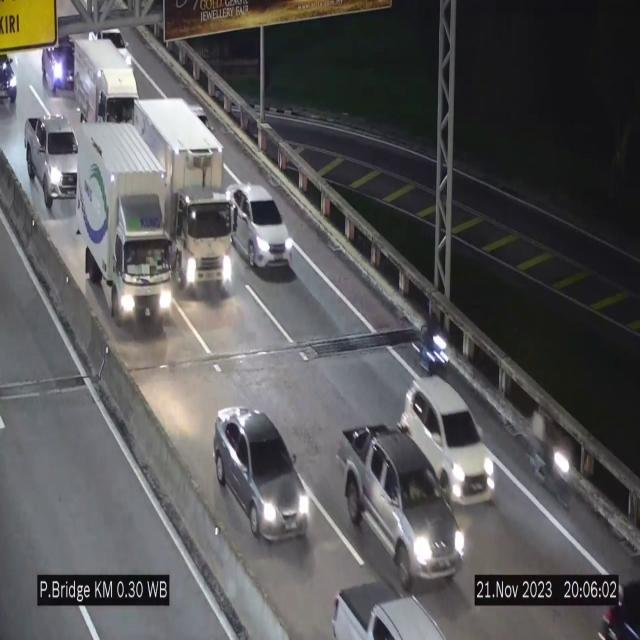Car: (338, 422, 464, 590), (214, 407, 317, 541), (401, 376, 496, 500), (24, 111, 80, 212), (231, 184, 291, 270), (38, 26, 80, 103), (0, 40, 28, 108)
Motorcycle: (547, 417, 577, 515), (420, 308, 450, 390)
Truck: (71, 116, 174, 334), (130, 98, 228, 287), (325, 560, 449, 640), (71, 35, 140, 126)
